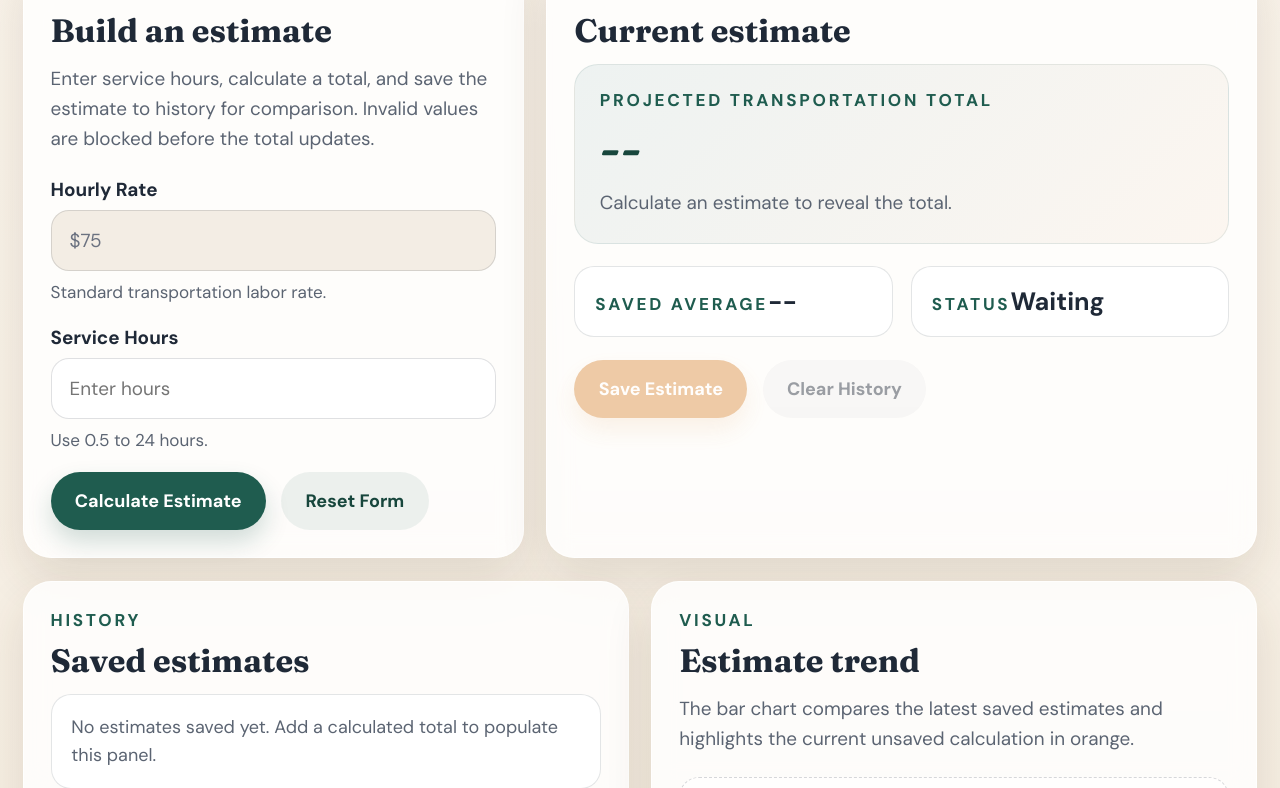
Test: saves an estimate to history and prevents duplicate saves
(page scrolled)
Step 1. Type "4" into the number field labelled "Service Hours" → (273, 388), box [50, 358, 496, 419]
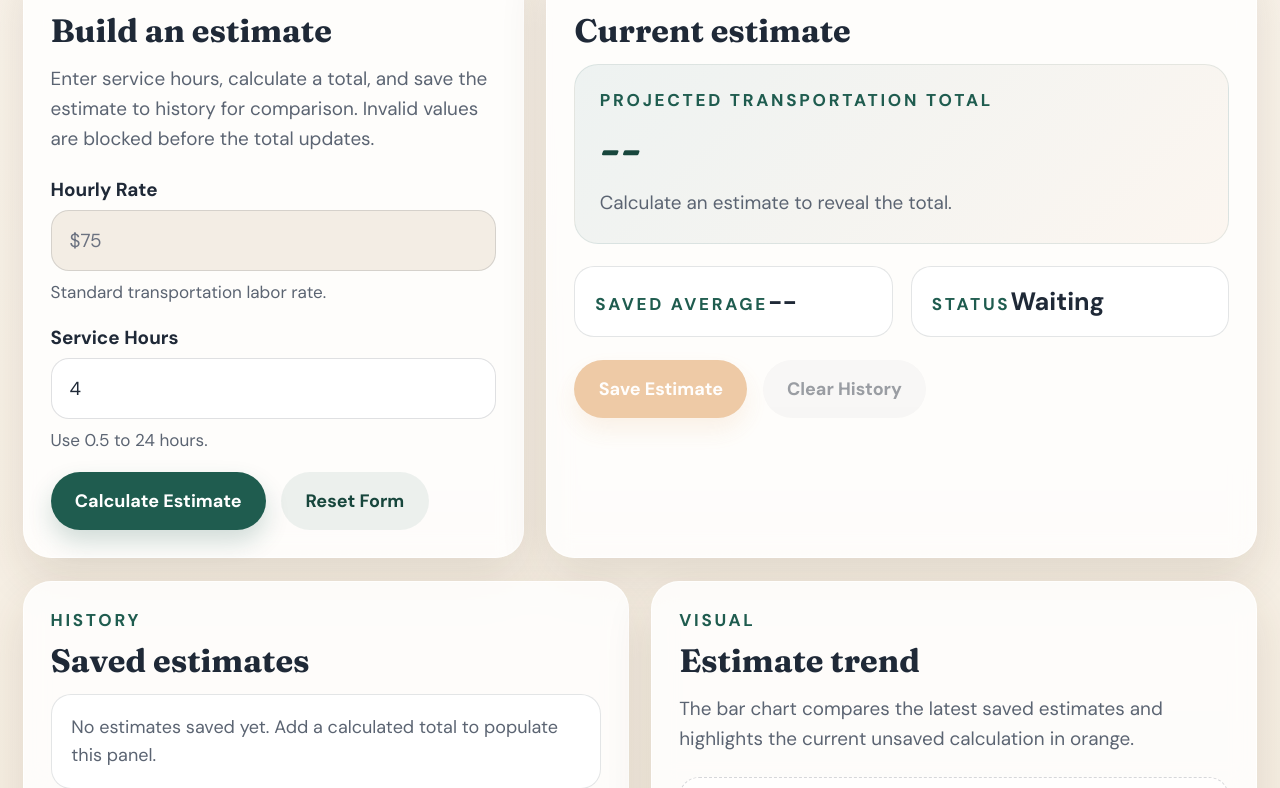
Step 2. Click the button "Calculate Estimate" → (158, 501), box [50, 472, 266, 530]
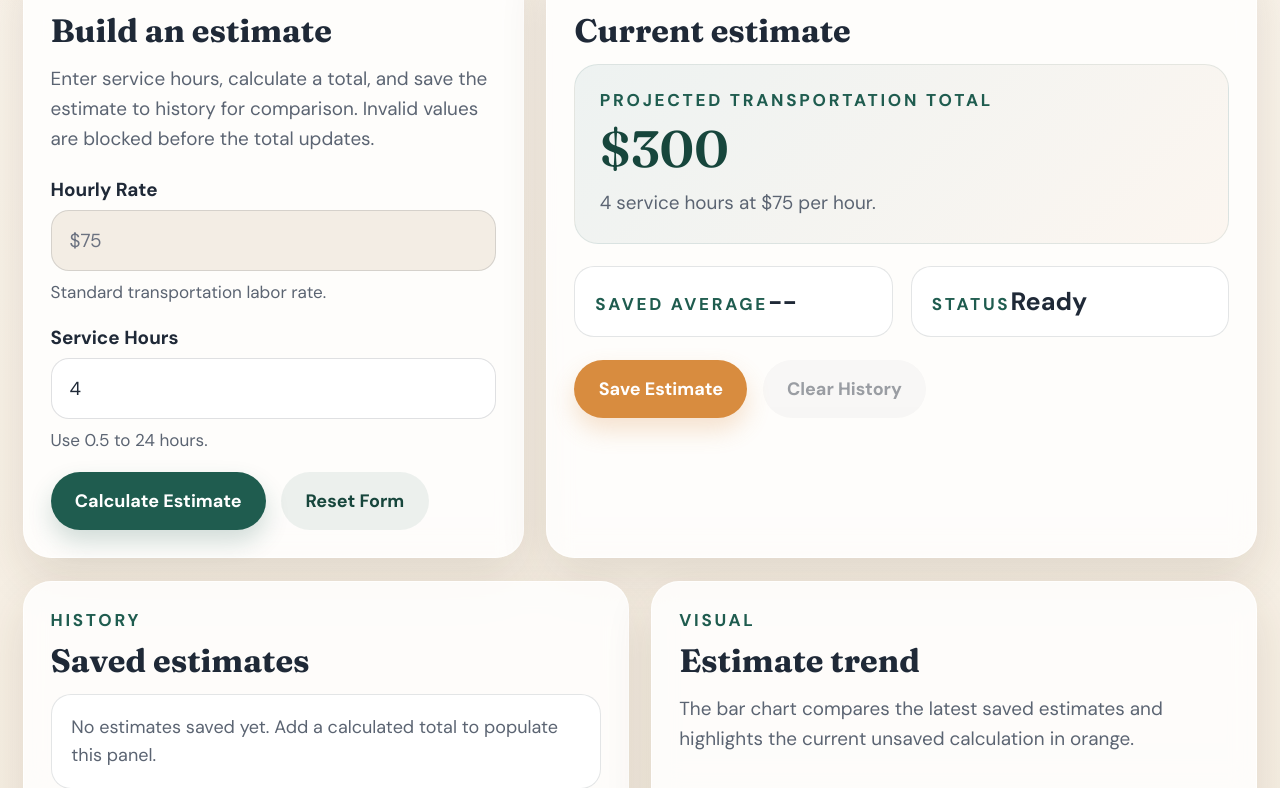
Step 3. Click the button "Save Estimate" → (661, 389), box [574, 360, 747, 418]
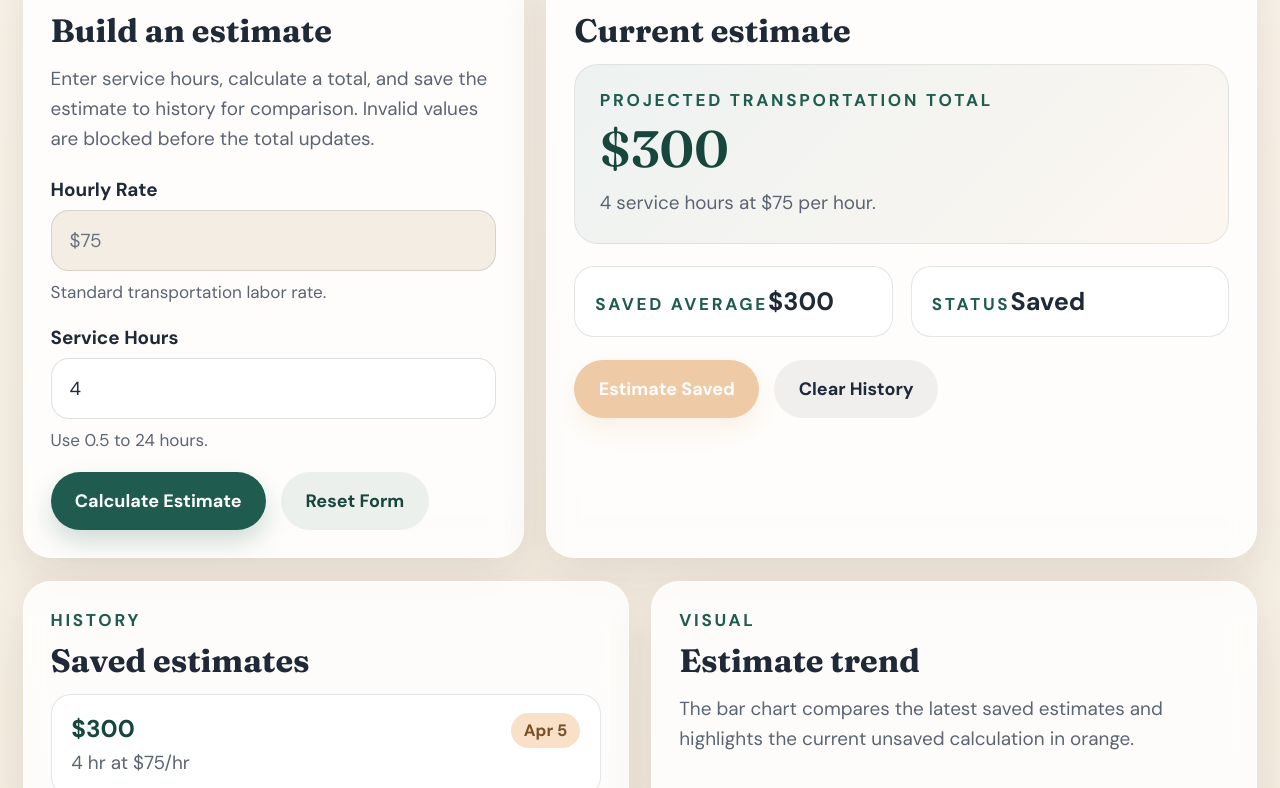
Now the text "4 hr at $75/hr" is shown, box [71, 748, 190, 778]
Now the button "Estimate Saved" is disabled, box [574, 360, 759, 418]
